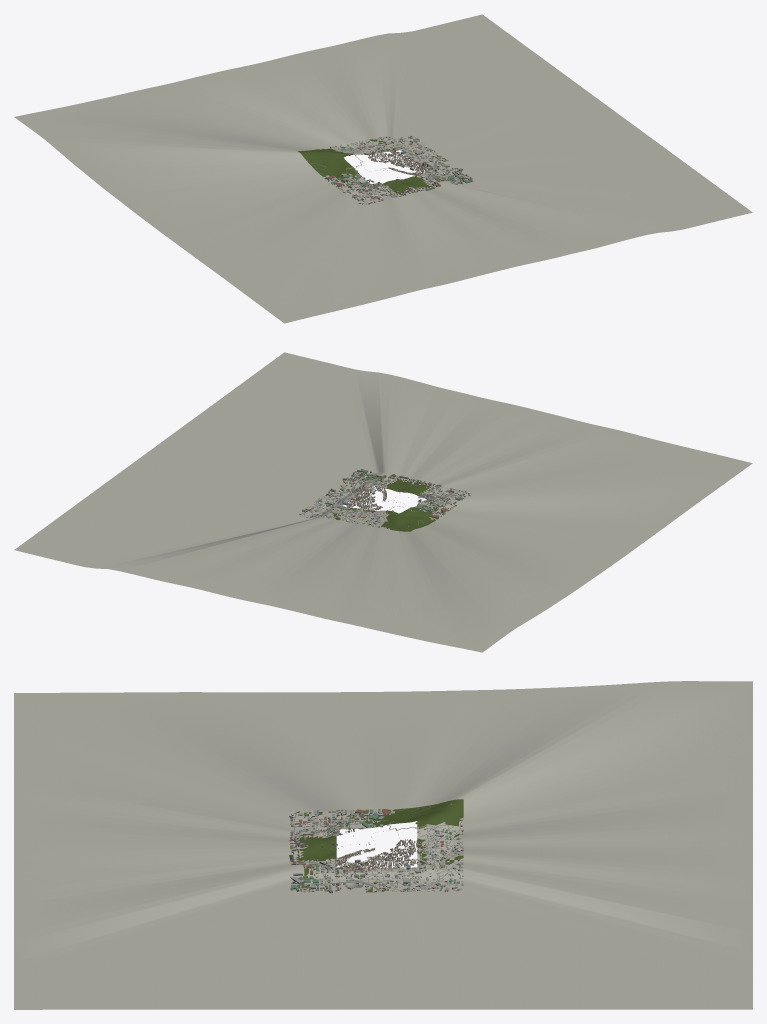
The picture shows the model from 3 angles, top to bottom: view 1: azimuth 30°, elevation 25°; view 2: azimuth 150°, elevation 25°; view 3: azimuth 270°, elevation 25°; orthographic projection. The views are drawn at different scales.
Parts seen in each view (by area): view 1: ctx-ground, ctx-far, ctx-buildings, ctx-fill; view 2: ctx-ground, ctx-far, ctx-buildings, ctx-fill; view 3: ctx-ground, ctx-far, ctx-buildings, ctx-fill, ctx-streets, ctx-roads.
Boxes of the visible parts, left/top/right/bottom form: ctx-ground: left=14, top=14, right=752, bottom=323; ctx-far: left=308, top=136, right=473, bottom=204; ctx-buildings: left=326, top=136, right=472, bottom=199; ctx-fill: left=368, top=150, right=430, bottom=184; ctx-ground: left=14, top=352, right=752, bottom=652; ctx-far: left=299, top=469, right=471, bottom=527; ctx-buildings: left=302, top=469, right=464, bottom=521; ctx-fill: left=343, top=485, right=426, bottom=510; ctx-ground: left=14, top=681, right=752, bottom=1009; ctx-far: left=290, top=803, right=463, bottom=892; ctx-buildings: left=290, top=809, right=461, bottom=893; ctx-fill: left=335, top=829, right=418, bottom=869; ctx-streets: left=290, top=812, right=463, bottom=891; ctx-roads: left=291, top=804, right=460, bottom=891.
Size of the model in its own units: 8000 by 205 by 8000.
Materials: 32 (25 with a texture image).
